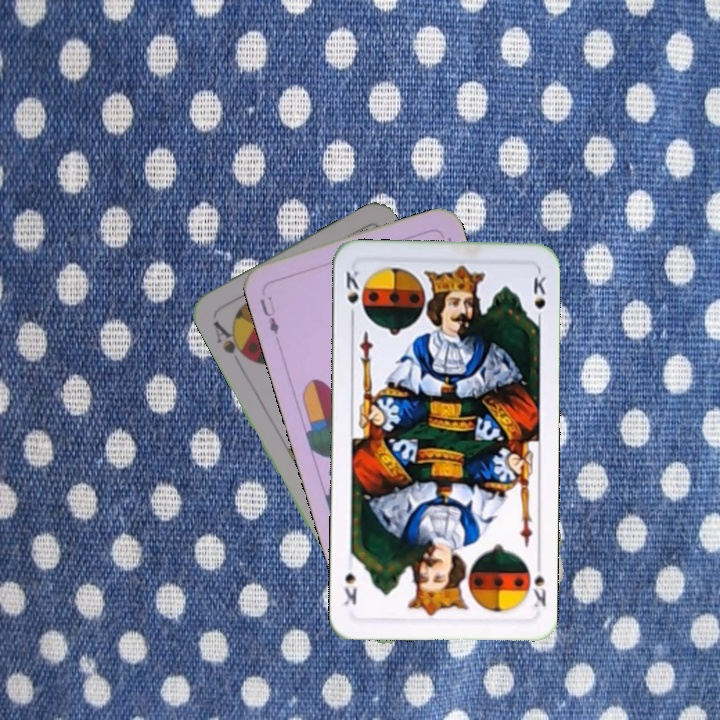EU: (256, 291, 282, 337)
SA: (209, 316, 252, 363)
SK: (342, 265, 362, 323), (528, 556, 549, 610)
